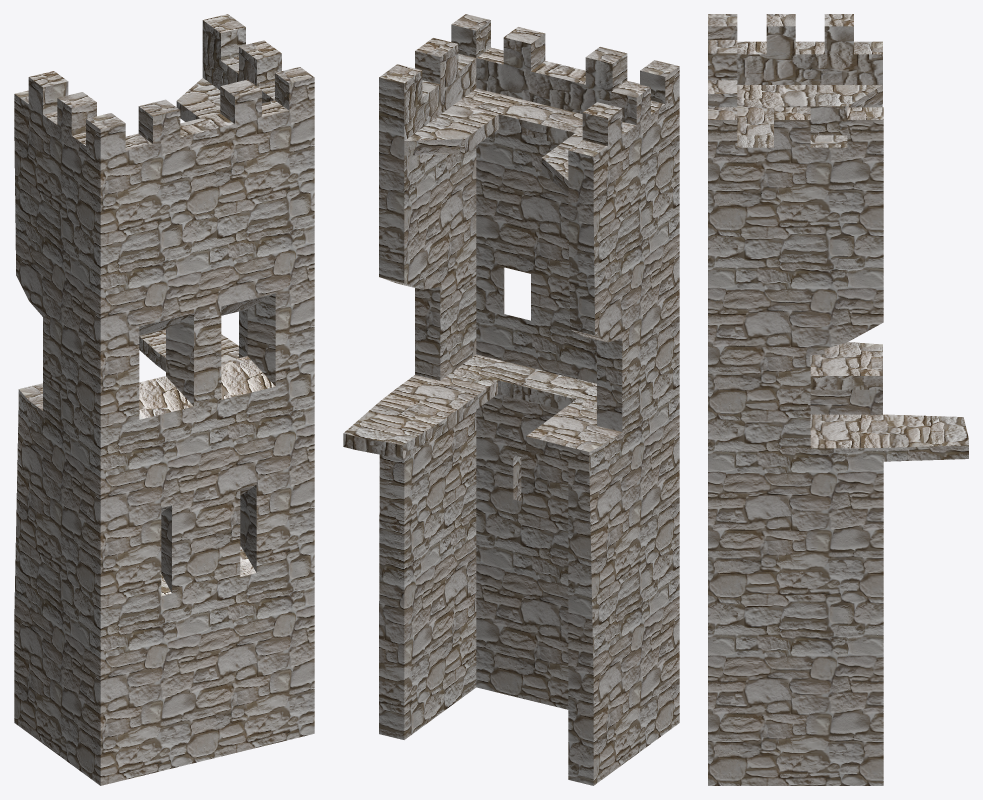
Rendered from tower_2.fbx.
The picture shows the model from 3 angles, left to right: view 1: azimuth 30°, elevation 25°; view 2: azimuth 150°, elevation 25°; view 3: azimuth 270°, elevation 25°; orthographic projection.
Visible parts, largest first — view 1: Cube.032; view 2: Cube.032; view 3: Cube.032.
Part boxes in pixels (x1,y1,x2,y2): Cube.032: (14,14,314,785); Cube.032: (343,14,679,785); Cube.032: (708,14,968,785).
Size of the model in its own units: 542 by 1589 by 564.
Materials: 1 (1 with a texture image).
